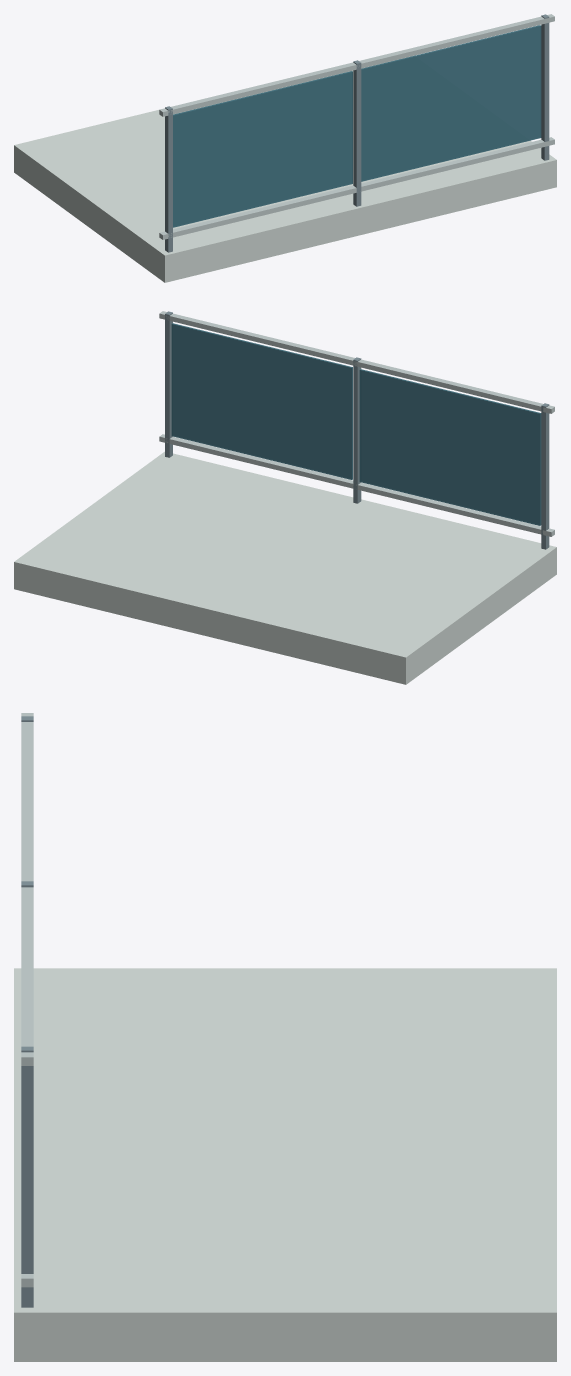
File: Arch_Balcony_3m.glb
3 renders of one model, top to bottom at view 1: azimuth 30°, elevation 25°; view 2: azimuth 150°, elevation 25°; view 3: azimuth 270°, elevation 25°, orthographic. The views are drawn at different scales.
Parts seen in each view (by area): view 1: Arch_Balcony_3m; view 2: Arch_Balcony_3m; view 3: Arch_Balcony_3m.
Boxes of the visible parts, <box> form: Arch_Balcony_3m: <box>14,14,556,282</box>; Arch_Balcony_3m: <box>14,311,556,684</box>; Arch_Balcony_3m: <box>14,713,556,1361</box>.
Size of the model in its own units: 3 by 1.24 by 2.
